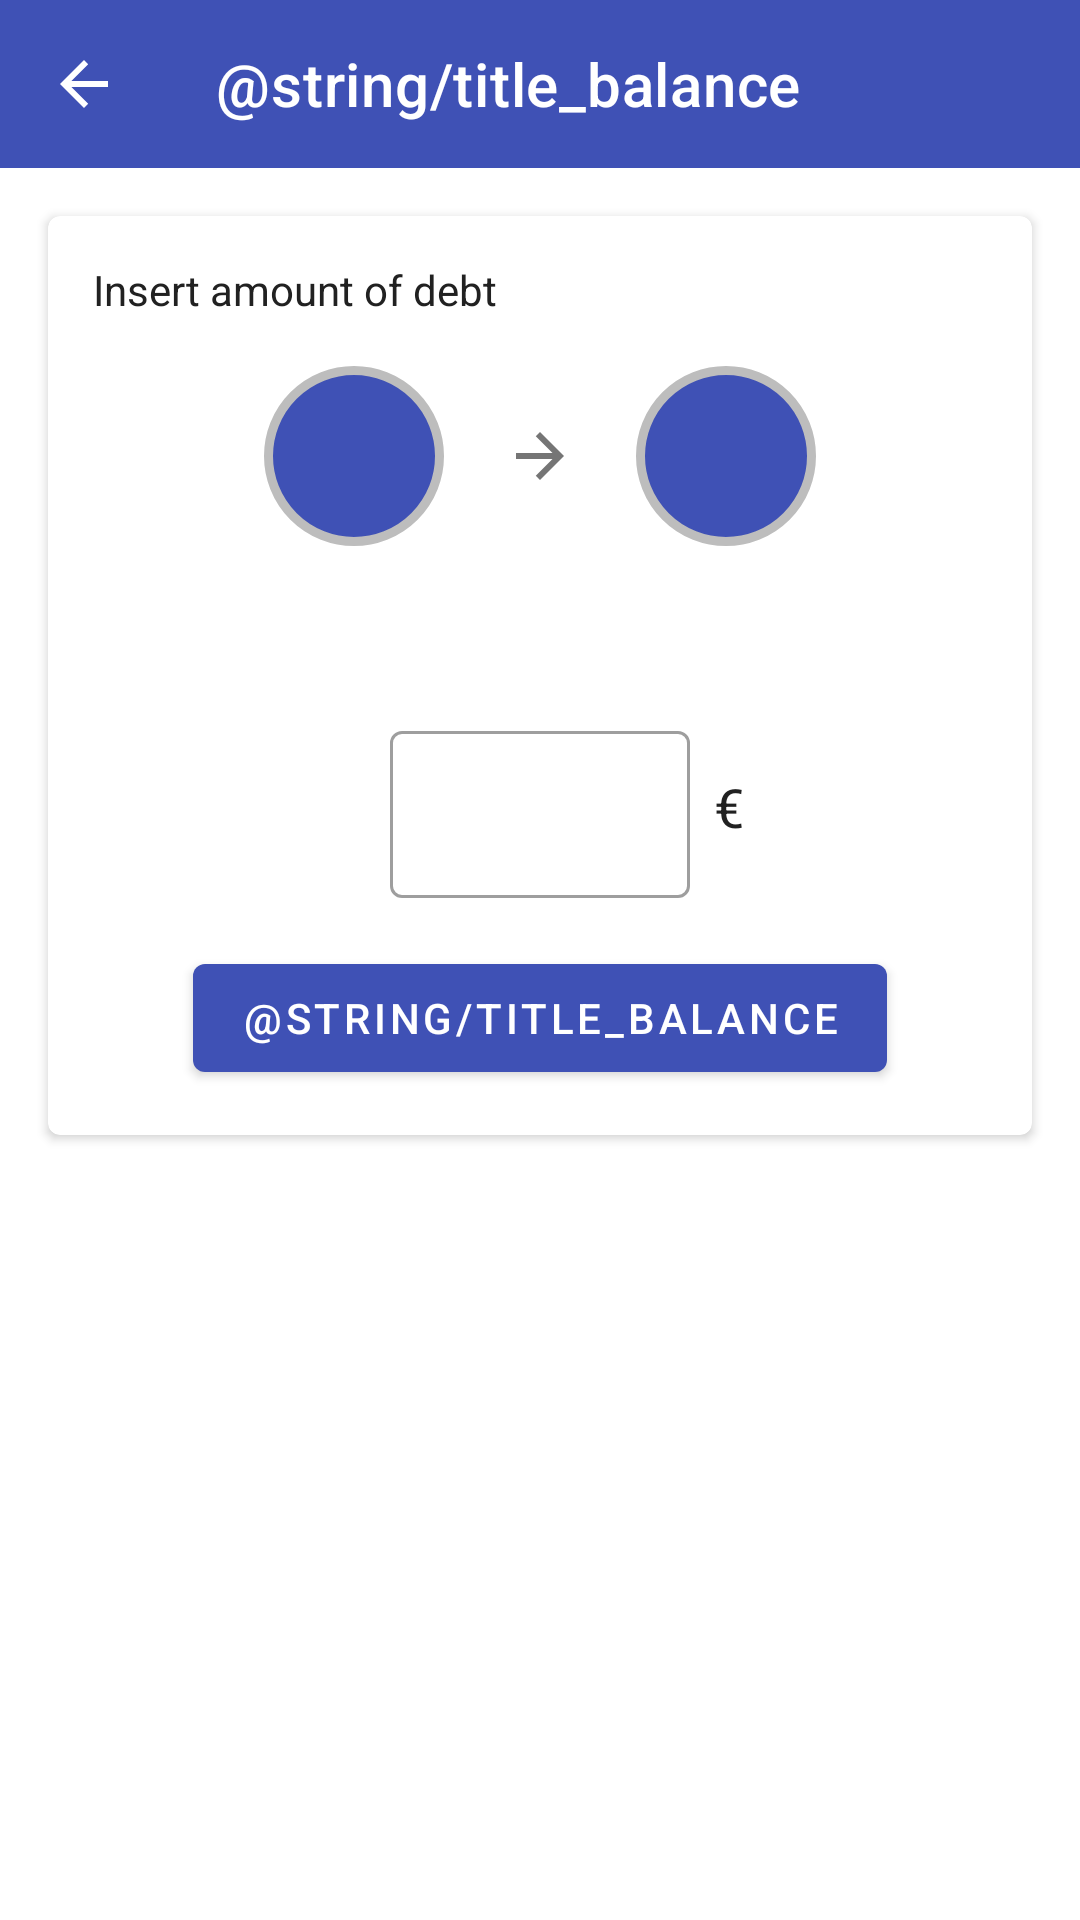

Named icons in this screenshot (1080w x 1920h) and their bounding boxes, (x1, y1, x2, y2):
arrow: (516, 432, 564, 480)
